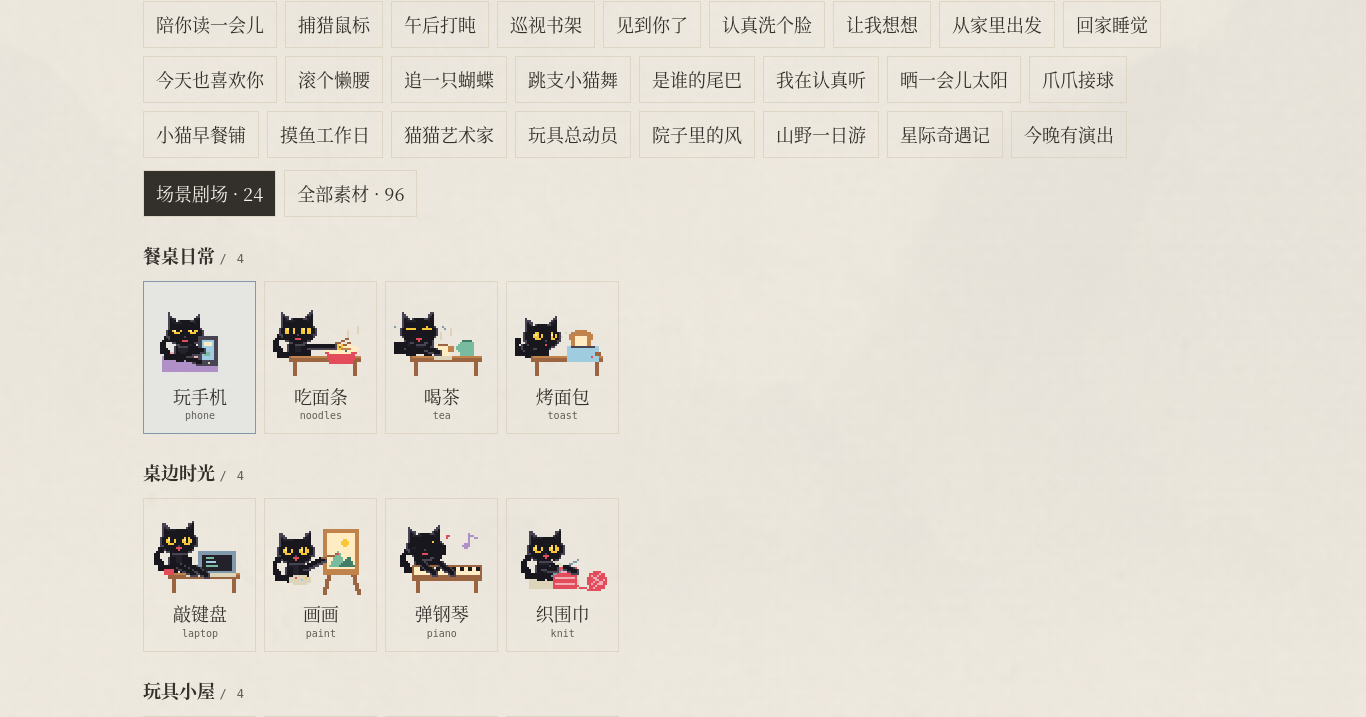
Test: previews the new scenes, steps their frames, and still exposes the original actions
(page scrolled)
Step 1. Click the button "吃面条 noodles" → click(320, 358), box [264,281,377,434]
(page scrolled)
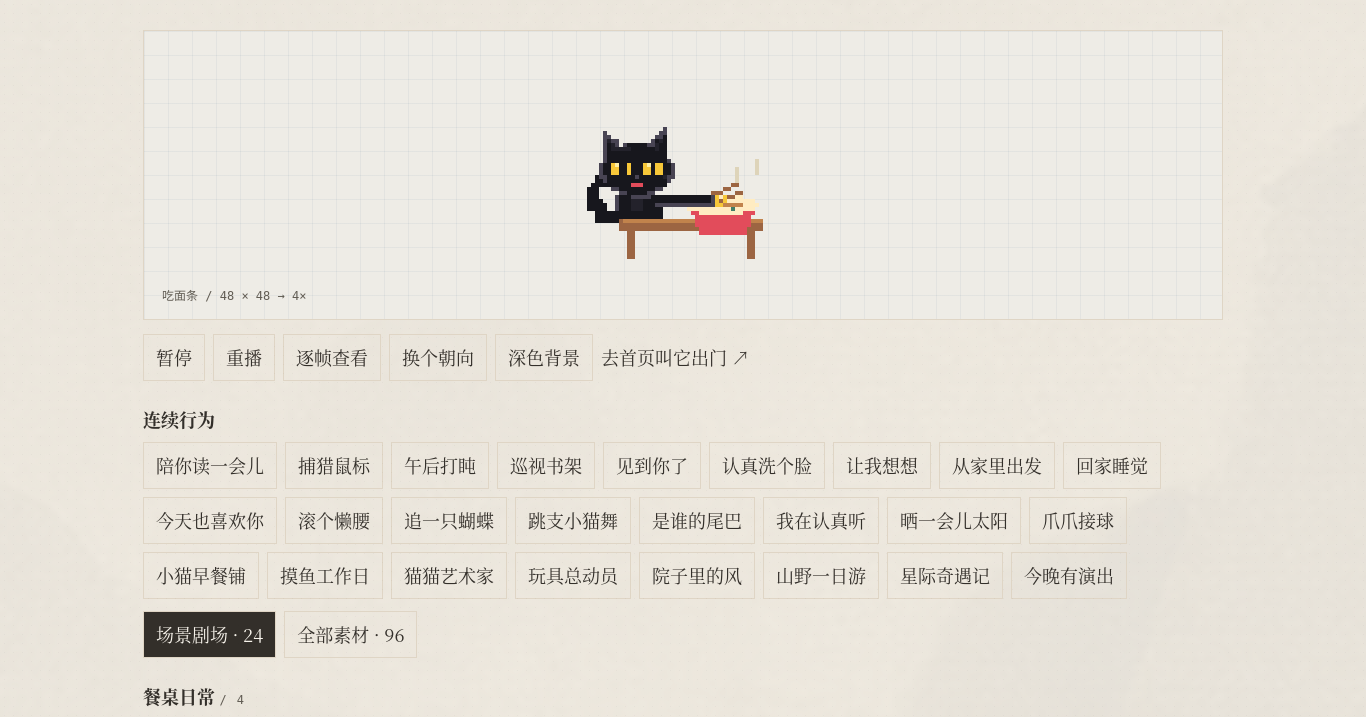
Step 2. Click the button "逐帧查看" → click(332, 357), box [283,334,381,381]
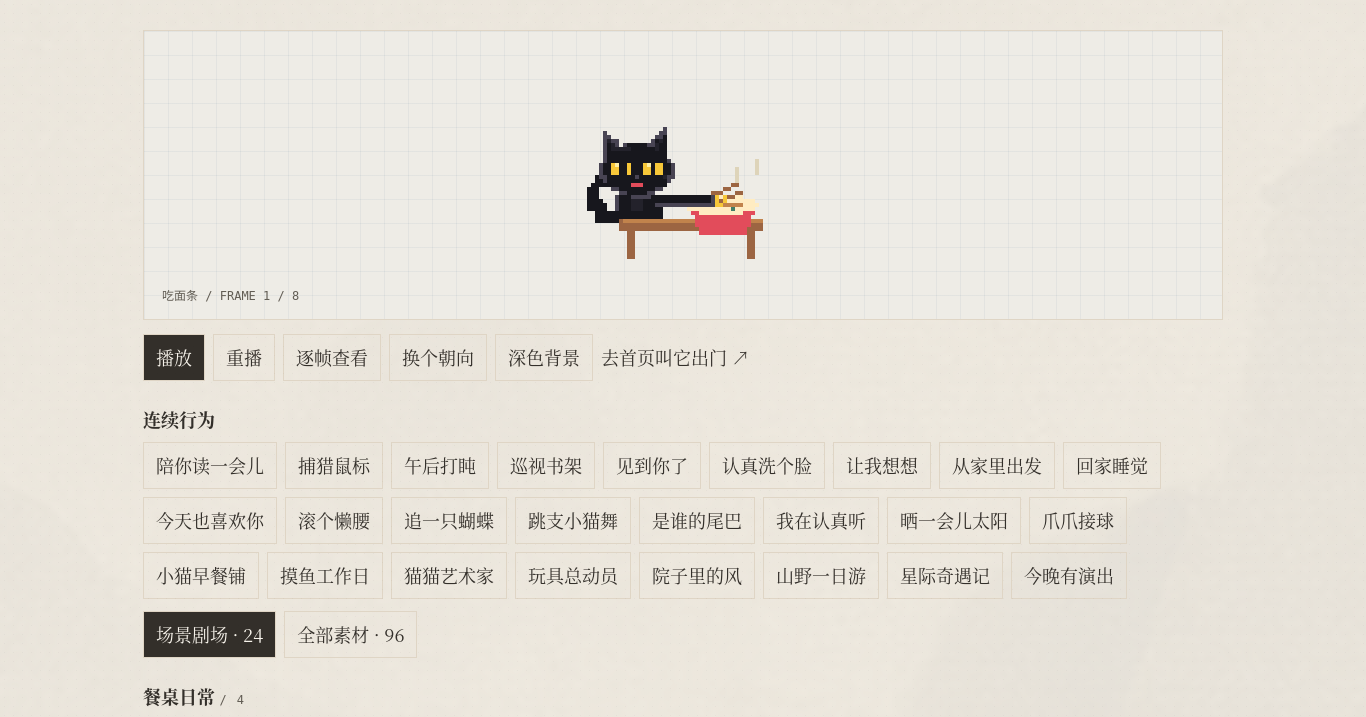
Step 3. Click the button "逐帧查看" → click(332, 357), box [283,334,381,381]
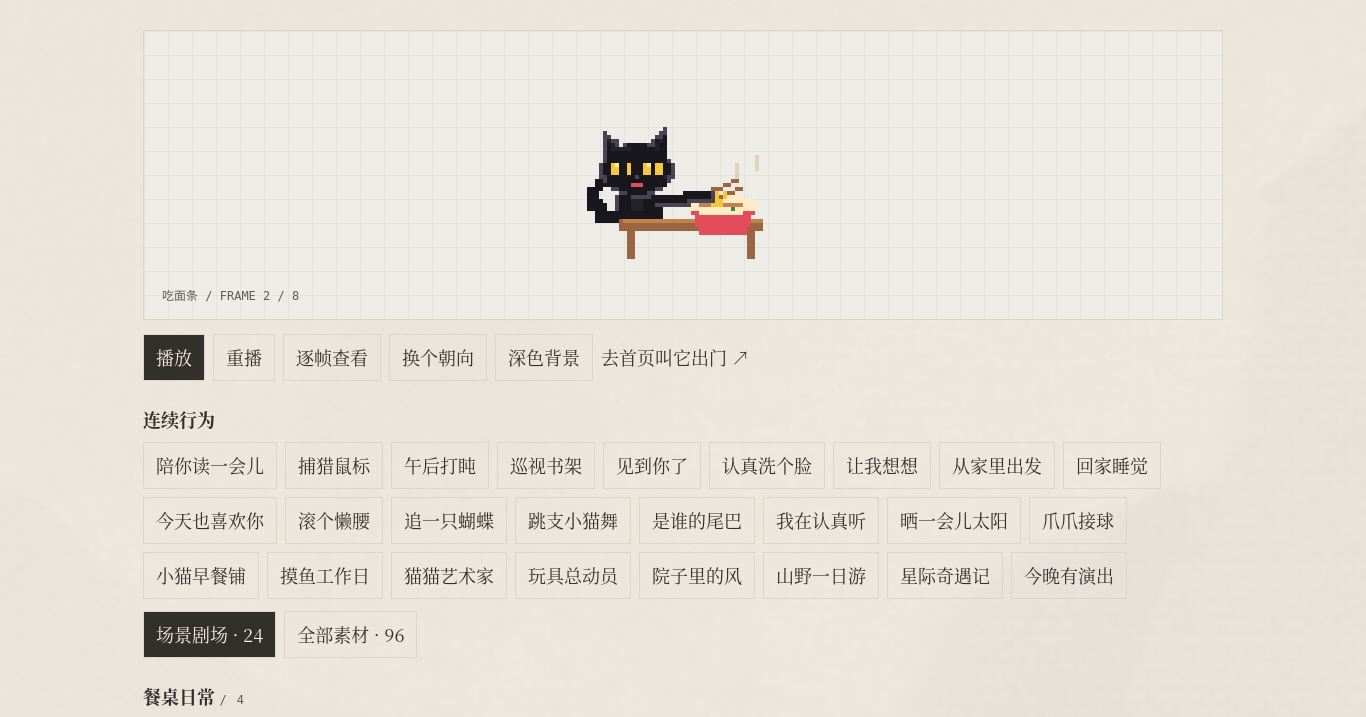
Step 4. Click the button "全部素材 · 96" → click(351, 634), box [284,611,418,658]
(page scrolled)
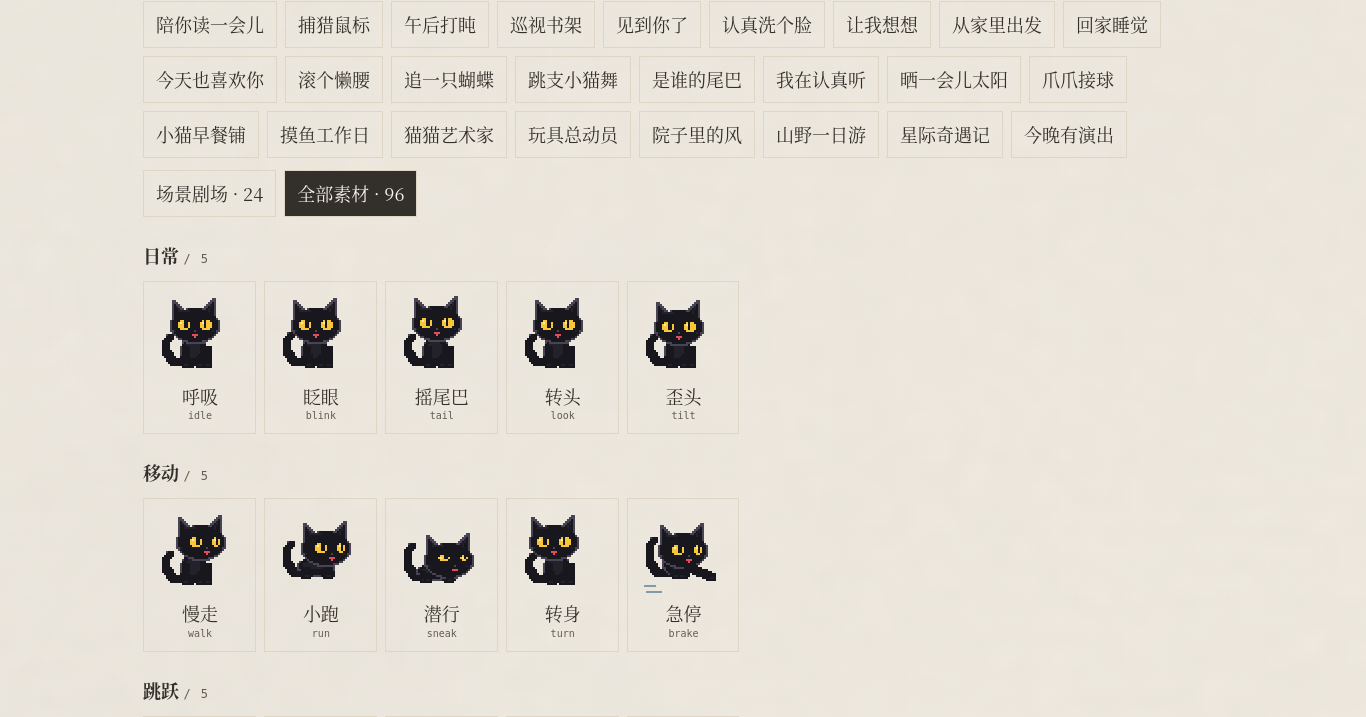
Now the button "呼吸 idle" is shown, box [143,281,256,434]
